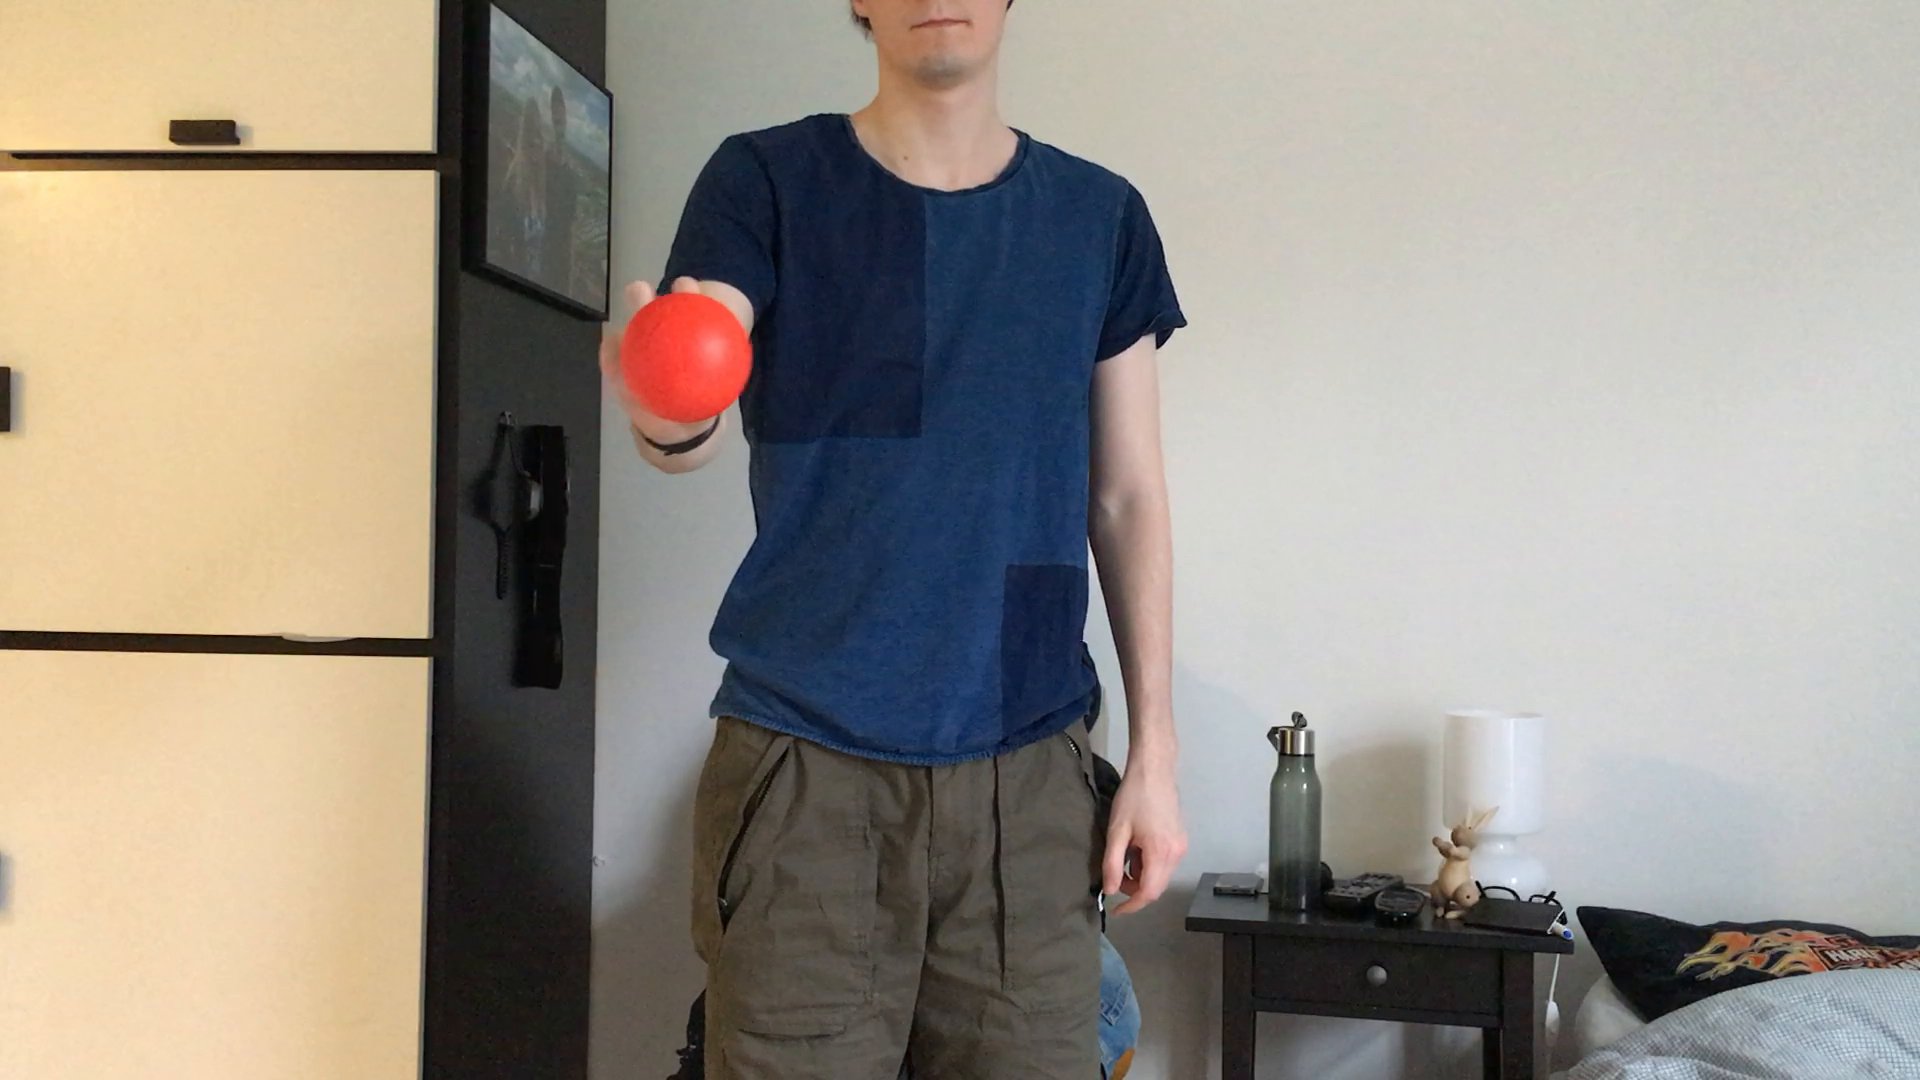Ball: (621, 295, 746, 423)
